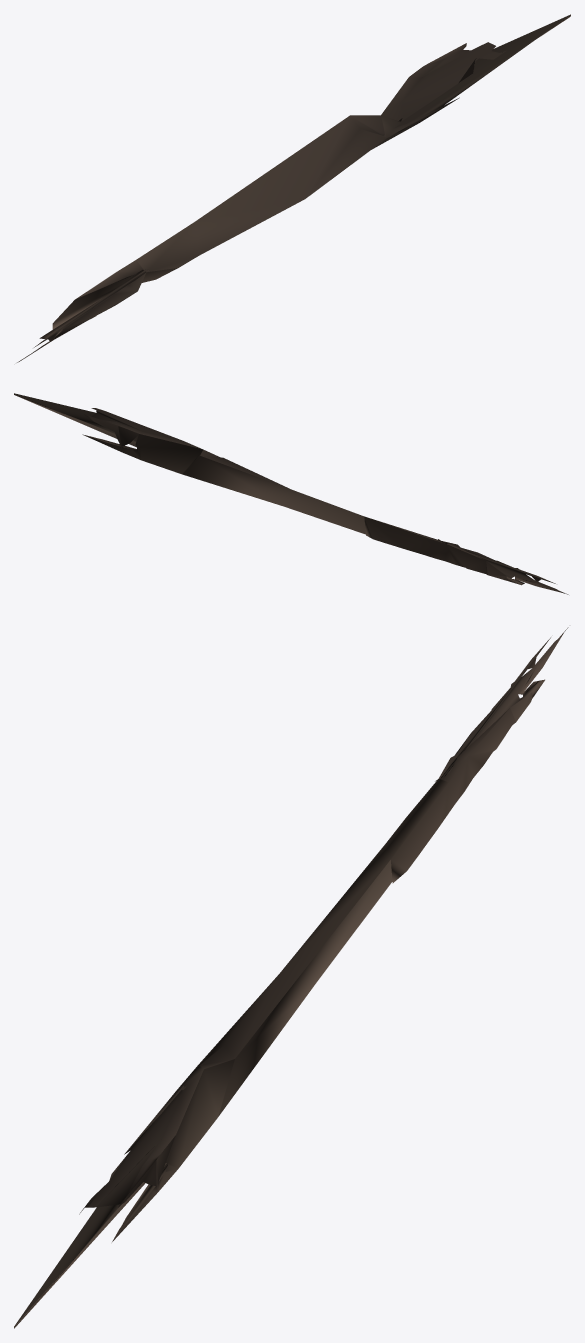
File: trees-dead-trees-wood-wood-splinter_v3.glb
The picture shows the model from 3 angles, top to bottom: view 1: azimuth 90°, elevation 25°; view 2: azimuth 150°, elevation 25°; view 3: azimuth 270°, elevation 25°; orthographic projection. The views are drawn at different scales.
Parts seen in each view (by area): view 1: Wood Splinter_v3; view 2: Wood Splinter_v3; view 3: Wood Splinter_v3.
Boxes of the visible parts, left/top/right/bottom form: Wood Splinter_v3: left=17, top=14, right=570, bottom=362; Wood Splinter_v3: left=14, top=393, right=568, bottom=594; Wood Splinter_v3: left=14, top=627, right=568, bottom=1328.
Bounding box in the file's own units: 0.3 × 0.048 × 0.1342.
